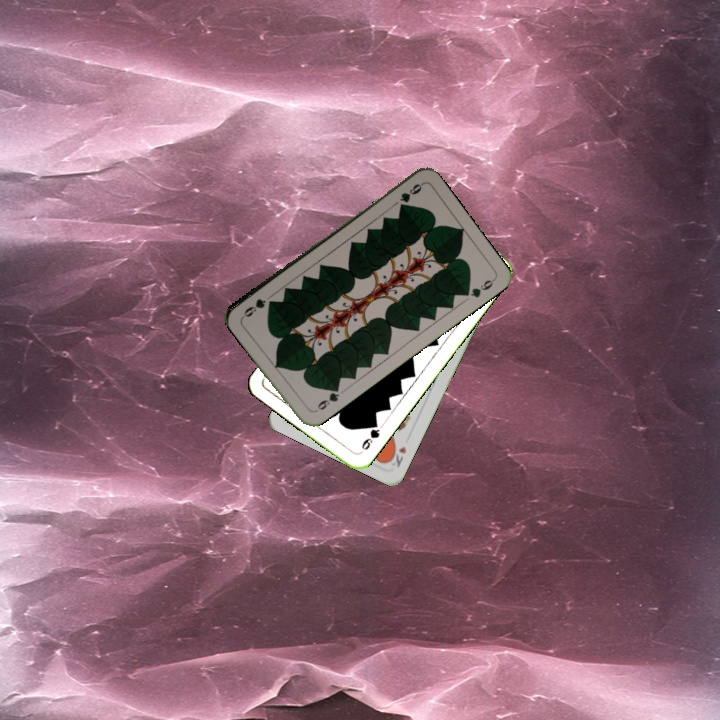G9: (309, 383, 342, 415), (357, 418, 382, 453), (396, 179, 426, 205)
HK: (384, 441, 409, 470)
